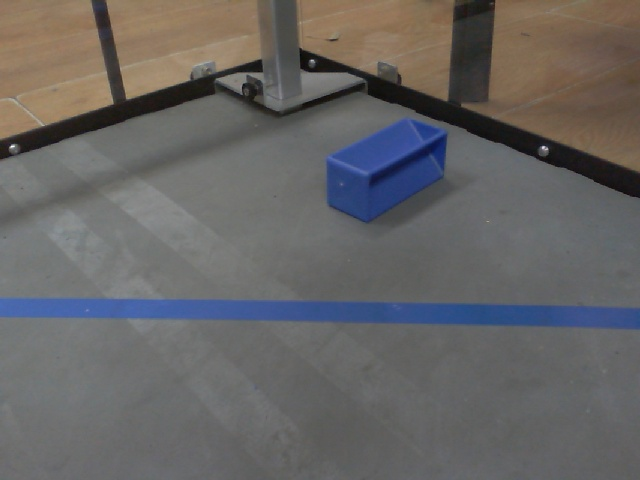BlueSample: (321, 114, 449, 224)
